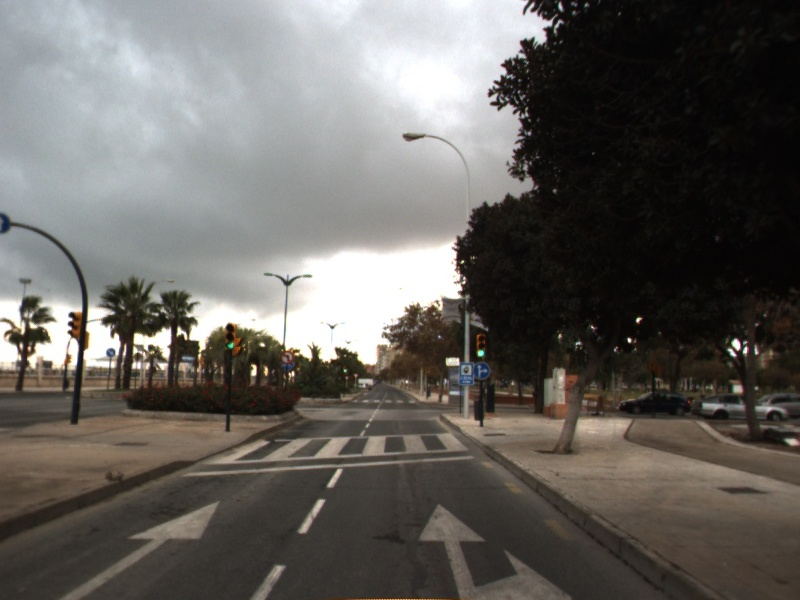STRAIGHT: (60, 497, 223, 600)
STRAIGHT_RIGHT: (415, 501, 578, 600)
